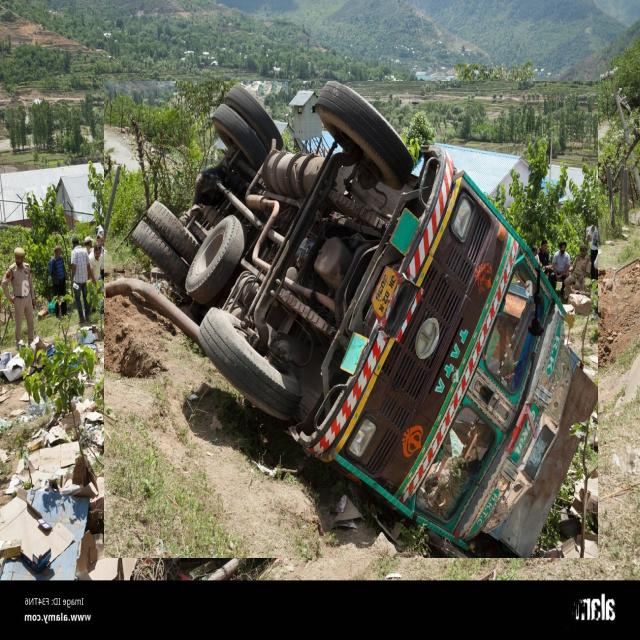accident: (104, 81, 598, 558)
